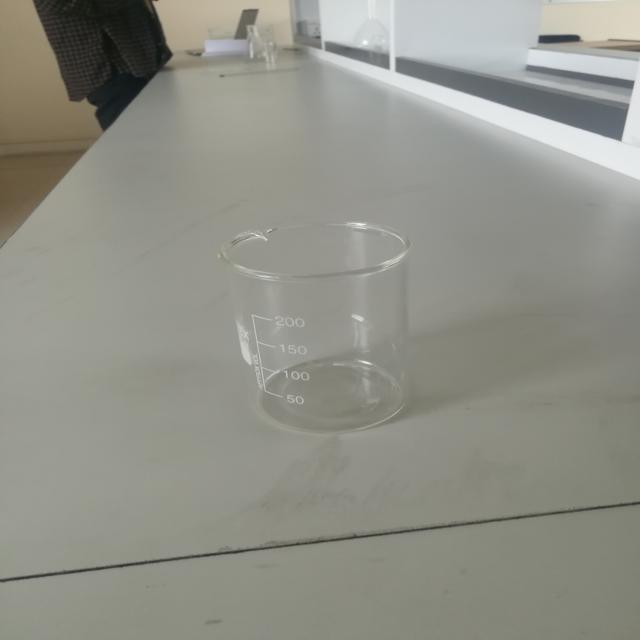Beaker: (168, 194, 476, 453)
